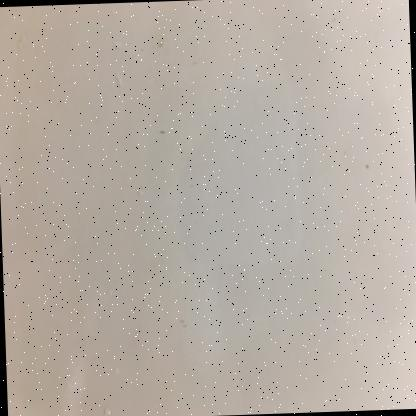Nocrack: (21, 3, 415, 413)
